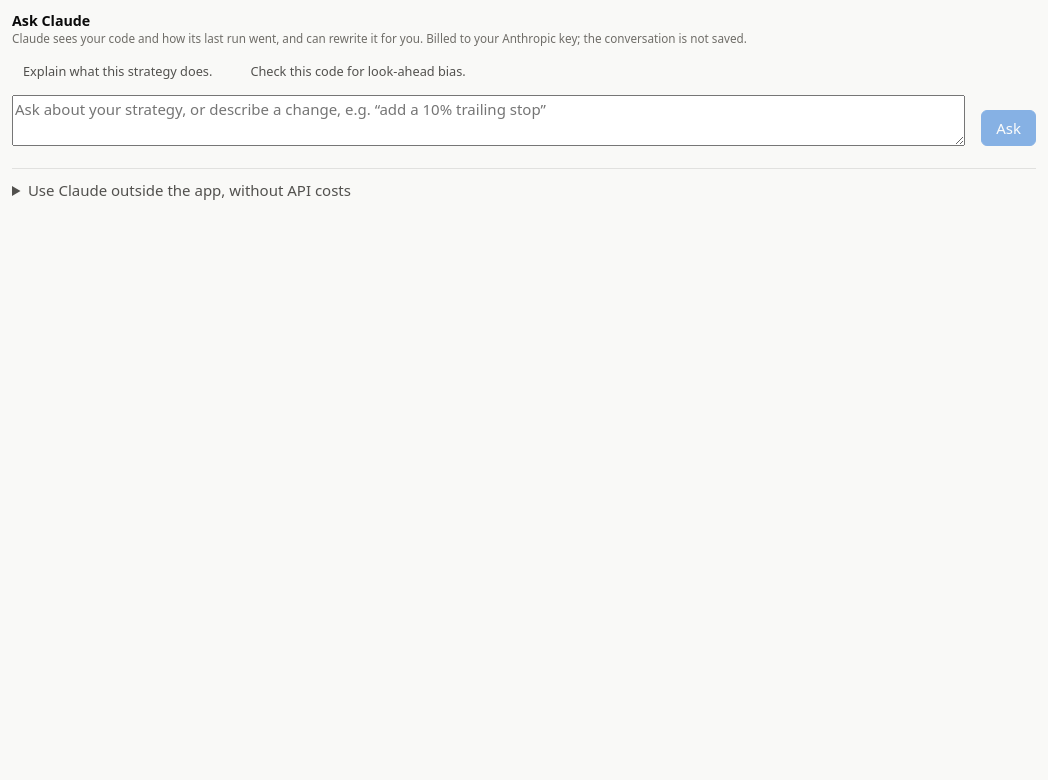
Test: StrategyAssistant › carries the conversation, with the code it proposed, into the next question
In the text box named "Question for Claude": point(489, 121) [12,95,965,146], type "Add a stop."
Then press Enter
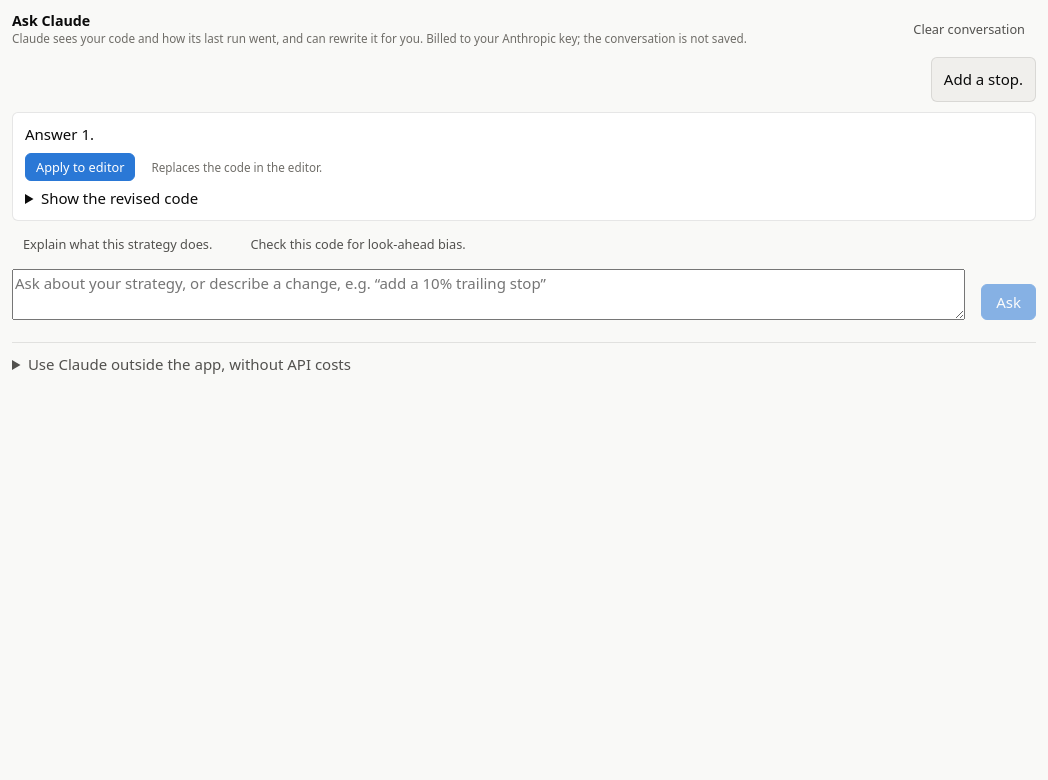
Expected: the text "Answer 1." is shown, [25,124,94,144]
In the text box named "Question for Claude": point(489, 294) [12,269,965,320], type "Tighten it."
Then press Enter
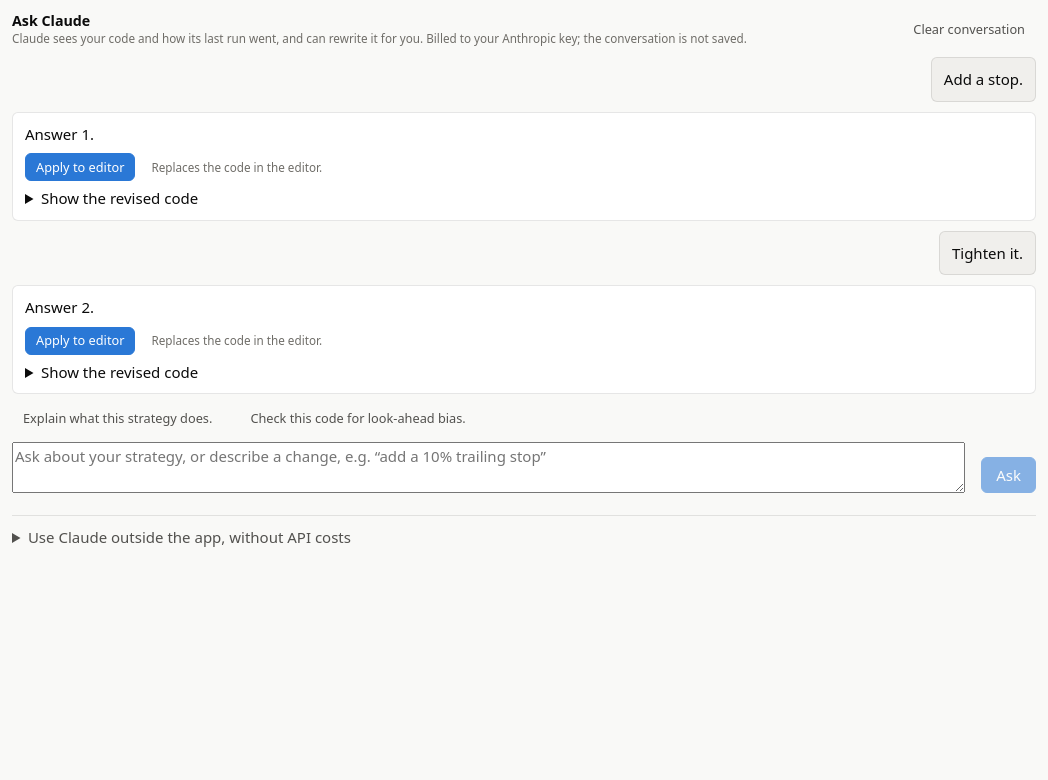
Expected: the text "Answer 2." is shown, [25,297,94,317]
